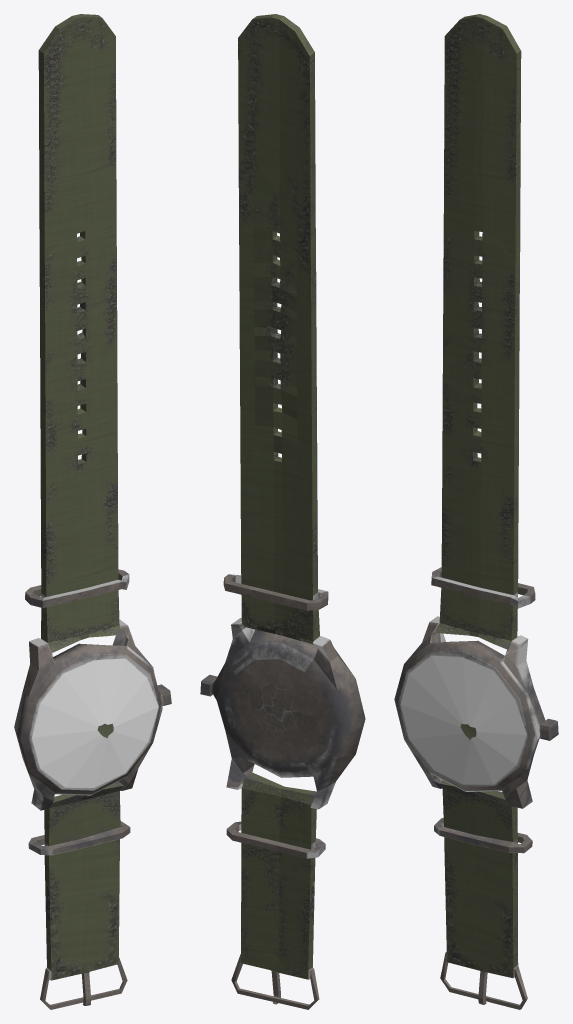
The model's file is smartwatch.glb.
3 renders of one model, left to right at view 1: azimuth 30°, elevation 25°; view 2: azimuth 150°, elevation 25°; view 3: azimuth 330°, elevation 25°, orthographic.
Parts seen in each view (by area): view 1: Cylinder001_Material #25_0; view 2: Cylinder001_Material #25_0; view 3: Cylinder001_Material #25_0.
Boxes of the visible parts, left/top/right/bottom form: Cylinder001_Material #25_0: left=14, top=14, right=171, bottom=1009; Cylinder001_Material #25_0: left=200, top=14, right=365, bottom=1009; Cylinder001_Material #25_0: left=394, top=14, right=558, bottom=1009.
Bounding box in the file's own units: 12.26 × 74.71 × 4.11.
1 material, 1 textured.
